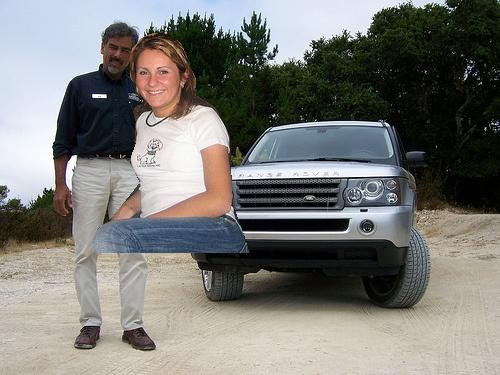tampered: (93, 34, 249, 253)
